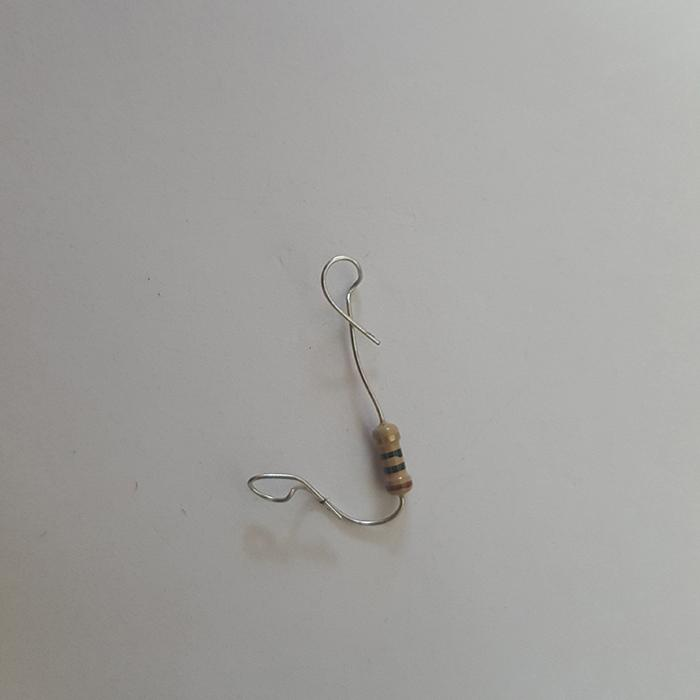resistor: (370, 418, 411, 494)
